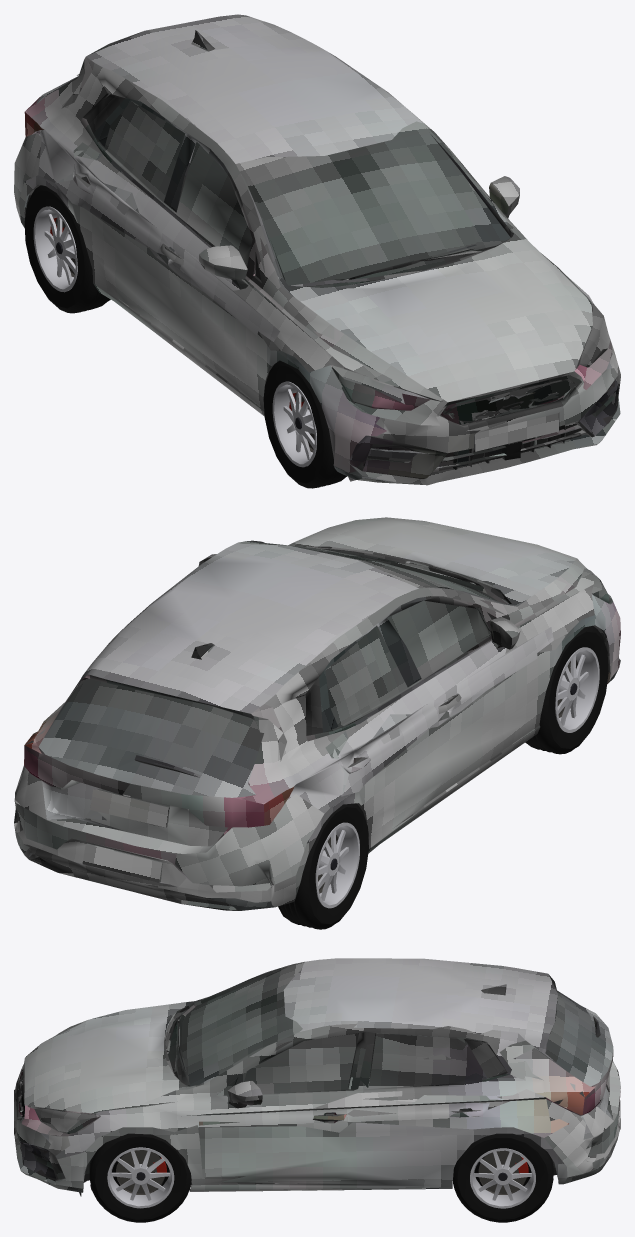
File: kompakt_m.glb
3 renders of one model, top to bottom at view 1: azimuth 30°, elevation 25°; view 2: azimuth 150°, elevation 25°; view 3: azimuth 270°, elevation 25°, orthographic. The views are drawn at different scales.
Visible parts, largest first — view 1: karosserie, rad_vr, rad_hr; view 2: karosserie, rad_hr, rad_vr; view 3: karosserie, rad_vl, rad_hl.
Boxes of the visible parts, box(x1,y1,x2,y2) form: karosserie: box(14, 14, 620, 485); rad_vr: box(263, 360, 346, 488); rad_hr: box(24, 185, 110, 313); karosserie: box(14, 517, 620, 910); rad_hr: box(278, 803, 368, 929); rad_vr: box(525, 625, 608, 754); karosserie: box(14, 958, 620, 1200); rad_vl: box(89, 1133, 191, 1222); rad_hl: box(453, 1133, 553, 1222).
Bounding box in the file's own units: 1.95 × 1.46 × 4.28.
3 materials, 1 textured.
